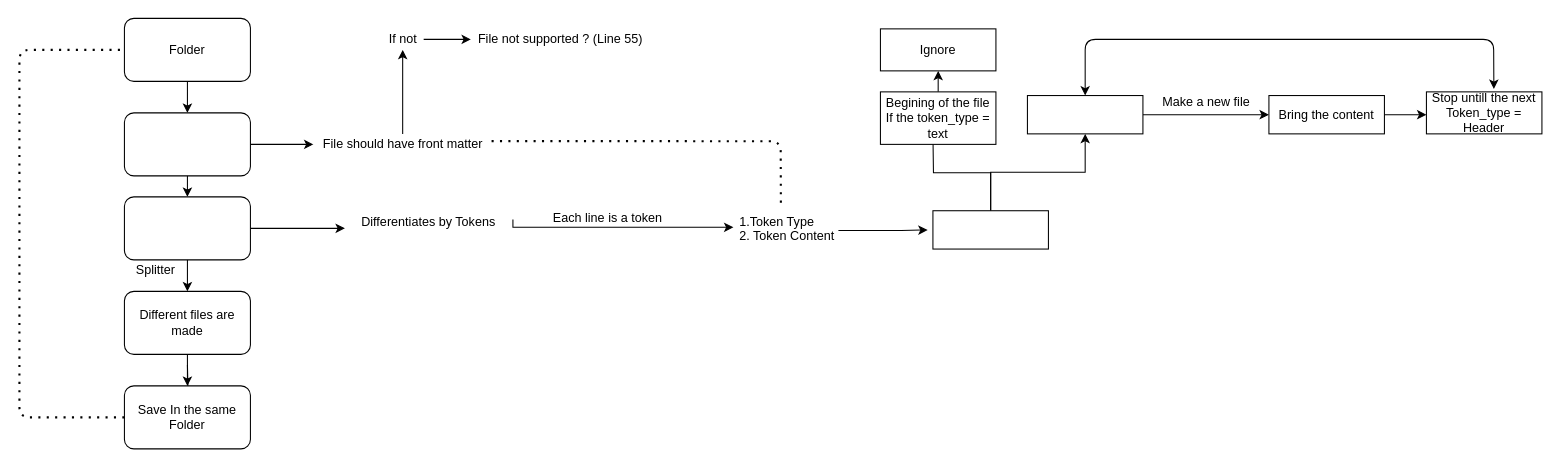
The diagram is 1560 pixels wide and 467 high, and some of its shapes have lost their labels. The centre of each missing label's shape, as x and y in pixels:
"Go to each token" goes at point (990, 229).
"Python Code Run" goes at point (186, 228).
"Token_type = Header" goes at point (1084, 114).
"Upload a file" goes at point (186, 144).
